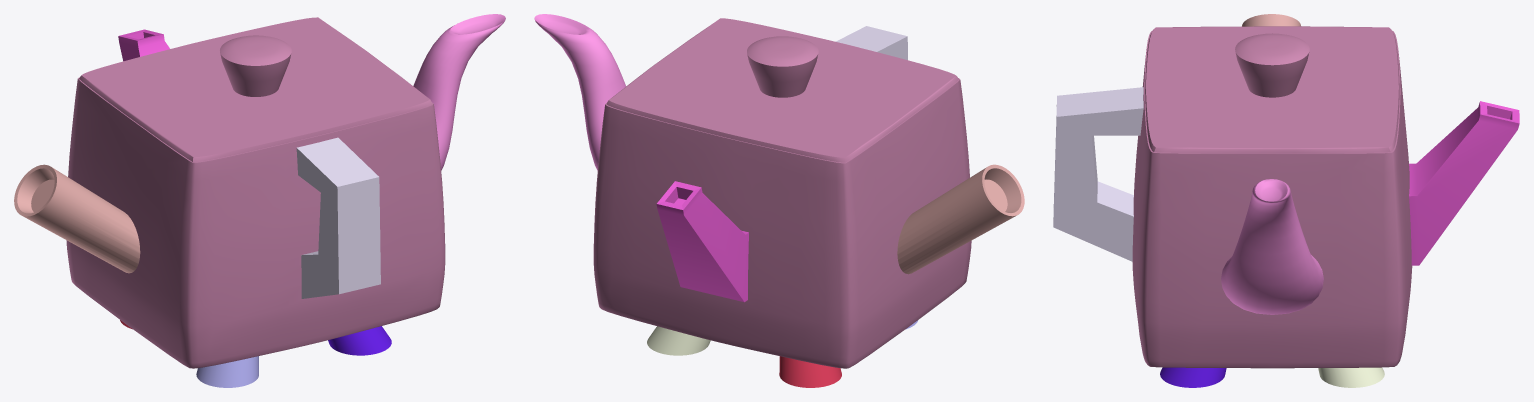
The picture shows the model from 3 angles, left to right: view 1: azimuth 30°, elevation 25°; view 2: azimuth 150°, elevation 25°; view 3: azimuth 270°, elevation 25°; orthographic projection. The views are drawn at different scales.
Visible parts, largest first — view 1: Object_2, Object_2.623, Object_2.005, Object_2.251, Object_2.004, Object_2.002, Object_2.105; view 2: Object_2, Object_2.105, Object_2.005, Object_2.251, Object_2.001, Object_2.623, Object_2.003; view 3: Object_2, Object_2.623, Object_2.251, Object_2.105, Object_2.003, Object_2.002, Object_2.005.
Boxes of the visible parts, x1,y1,x2,y2 form: Object_2: (66,17,445,368); Object_2.623: (296,137,380,298); Object_2.005: (14,164,140,273); Object_2.251: (413,14,505,170); Object_2.004: (196,356,258,387); Object_2.002: (328,326,391,355); Object_2.105: (118,29,169,61); Object_2: (593,18,971,368); Object_2.105: (656,181,748,302); Object_2.005: (897,164,1024,274); Object_2.251: (534,14,625,170); Object_2.001: (779,356,841,387); Object_2.623: (836,26,907,59); Object_2.003: (647,326,710,355); Object_2: (1132,26,1412,368); Object_2.623: (1053,87,1143,261); Object_2.251: (1221,179,1323,314); Object_2.105: (1409,101,1519,265); Object_2.003: (1318,367,1384,387); Object_2.002: (1160,367,1226,387); Object_2.005: (1242,14,1300,26).
Size of the model in its own units: 1 by 0.5599 by 0.8008.
